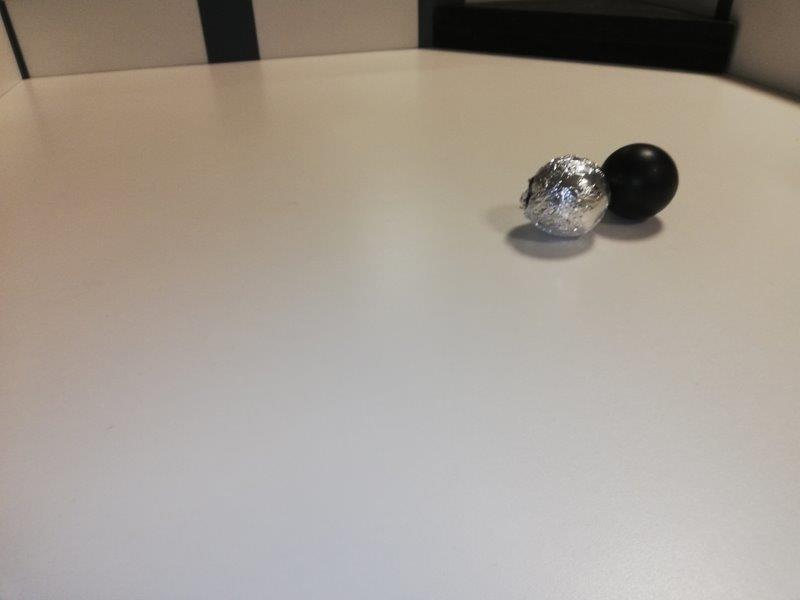bianca: (527, 148, 606, 237)
nera: (601, 142, 678, 217)
